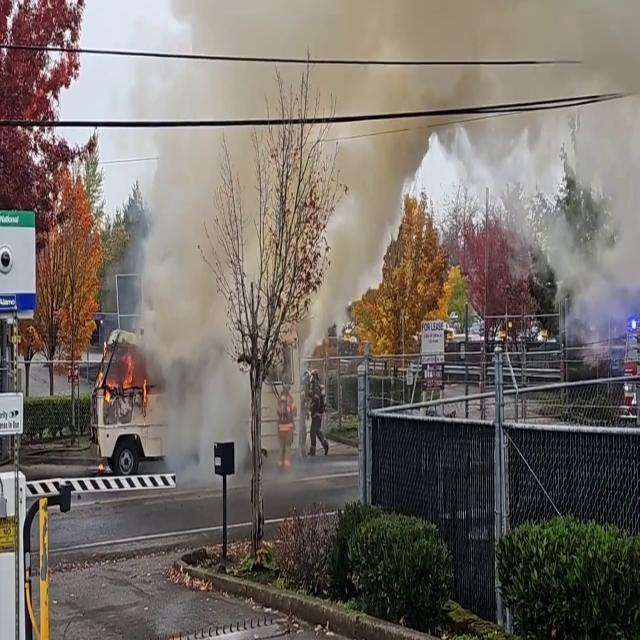Fire: (97, 330, 141, 406)
Smoke: (152, 0, 636, 238), (120, 131, 350, 473)
